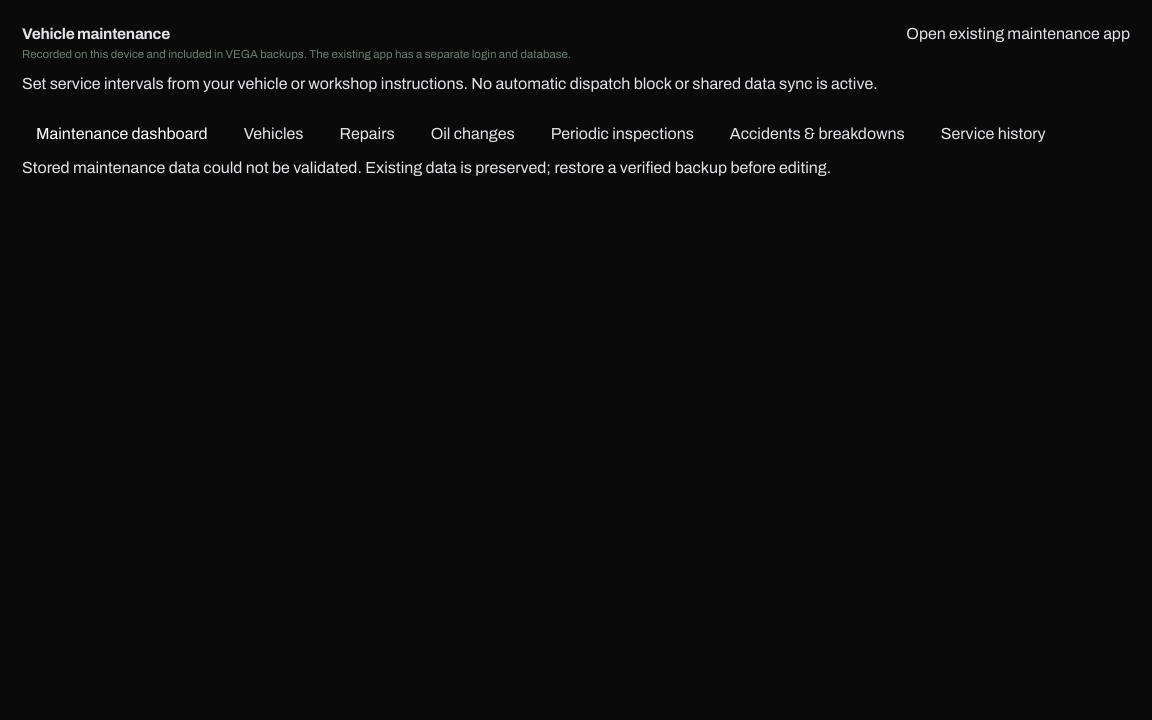
maintenance operator workflow › preserves malformed stored history and blocks editing
Expected: the message is shown, [22,159,831,176]
What coordinates should you click on to do the following:
click the button "Vehicles"
I would click on:
 (274, 134)
Its box is [230,112,318,156].
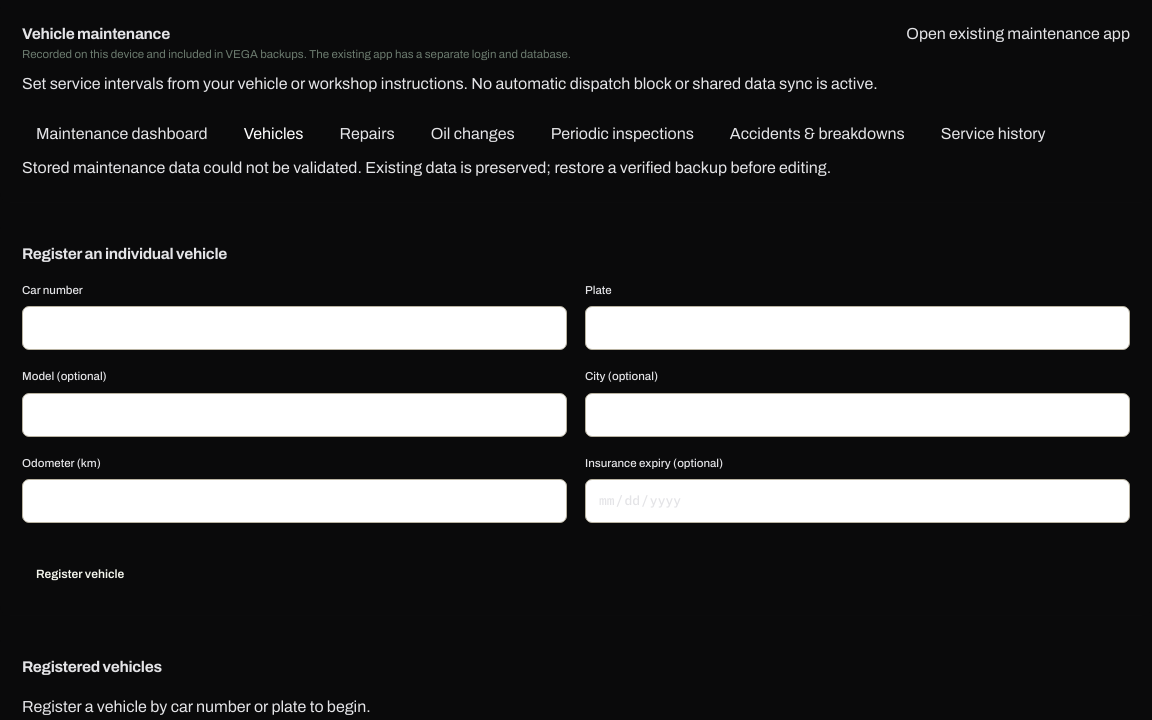
Result: the element named "Register vehicle" is disabled at [22,282,1130,593]
